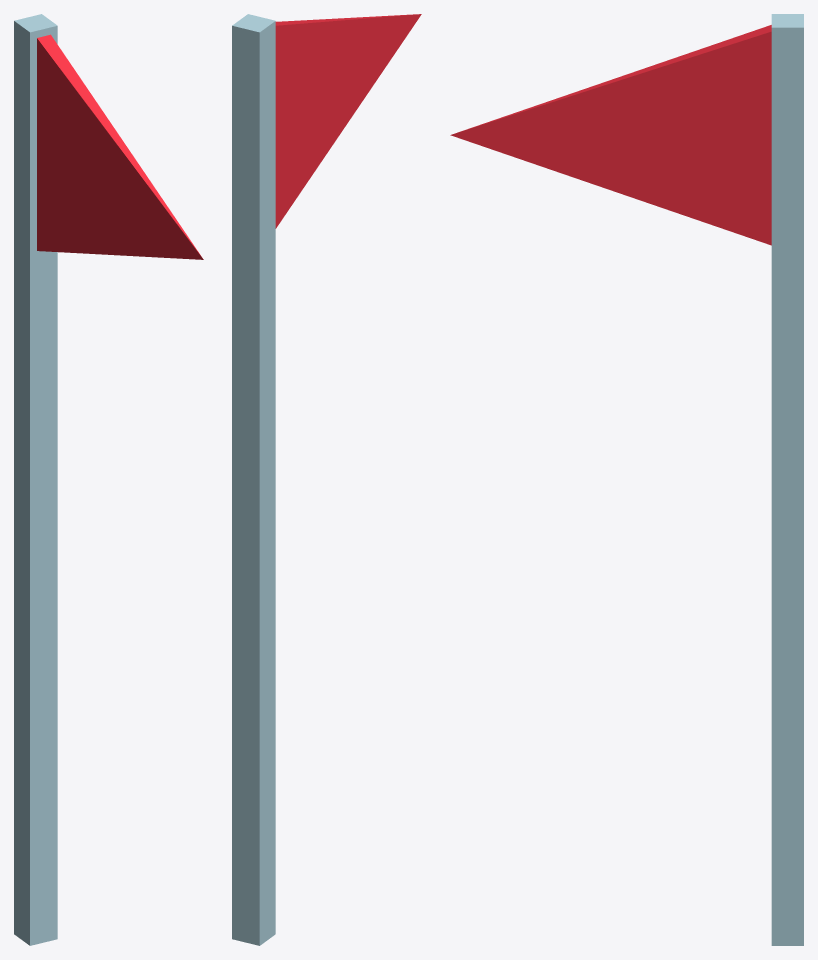
Rendered from flag_red.obj.
The picture shows the model from 3 angles, left to right: view 1: azimuth 30°, elevation 25°; view 2: azimuth 150°, elevation 25°; view 3: azimuth 270°, elevation 25°; orthographic projection.
Parts seen in each view (by area): view 1: flag_red; view 2: flag_red; view 3: flag_red.
Part boxes in pixels (x1,y1,x2,y2): flag_red: [14, 14, 203, 945]; flag_red: [232, 14, 421, 945]; flag_red: [450, 14, 803, 945].
Size of the model in its own units: 0.0333 by 1.05 by 0.3666.
